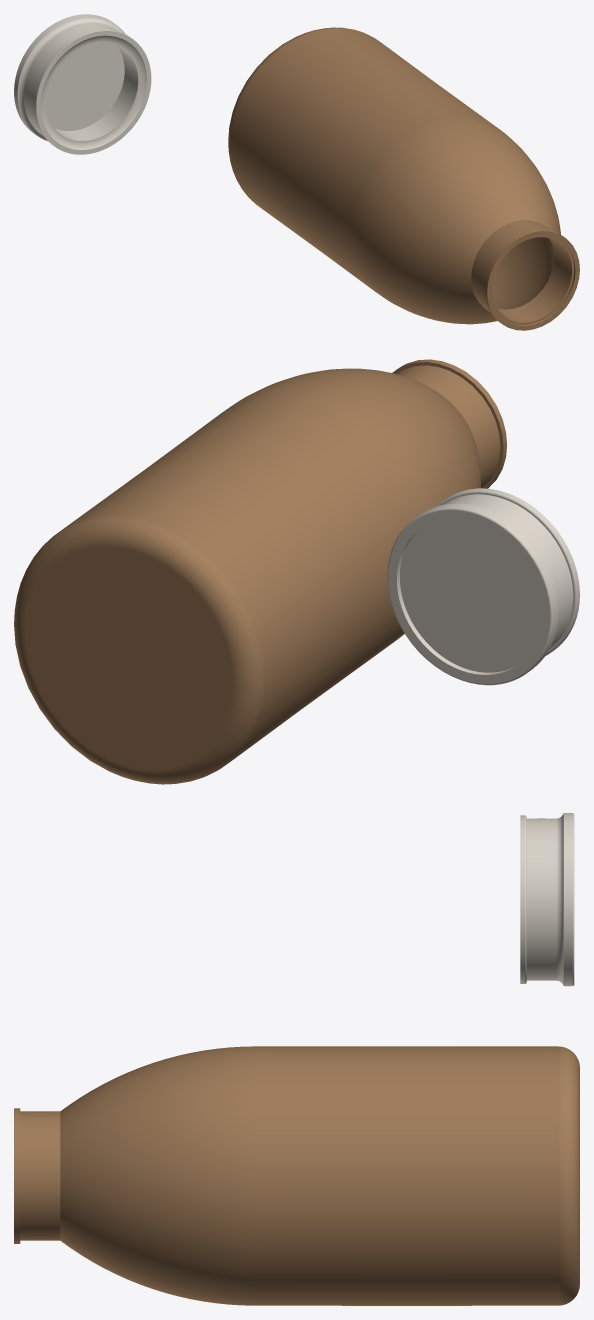
File: flask_1v1.fbx
3 views of the same model, one above another, from view 1: azimuth 30°, elevation 25°; view 2: azimuth 150°, elevation 25°; view 3: azimuth 270°, elevation 25° (orthographic). The views are drawn at different scales.
Visible parts, largest first — view 1: Body1, Body3; view 2: Body1, Body3; view 3: Body1, Body3.
Part boxes in pixels (<box>): Body1: <box>228,27,579,330</box>; Body3: <box>14,14,151,154</box>; Body1: <box>14,359,506,784</box>; Body3: <box>387,488,579,685</box>; Body1: <box>14,1046,579,1305</box>; Body3: <box>520,813,574,986</box>.
Bounding box in the file's own units: 263 × 165 × 262.
